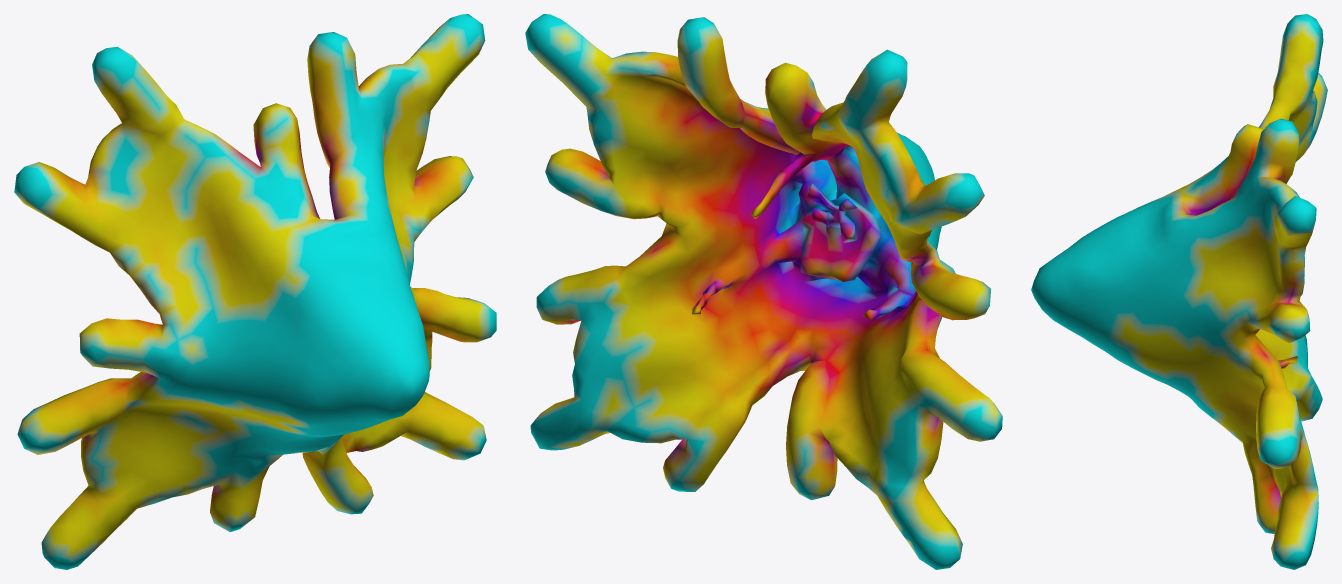
The model's file is jelly_63.gltf.
The picture shows the model from 3 angles, left to right: view 1: azimuth 30°, elevation 25°; view 2: azimuth 150°, elevation 25°; view 3: azimuth 270°, elevation 25°; orthographic projection. The views are drawn at different scales.
Parts seen in each view (by area): view 1: jellysquid3; view 2: jellysquid3; view 3: jellysquid3.
Boxes of the visible parts, x1=… form: jellysquid3: x1=14, y1=14, x2=496, y2=569; jellysquid3: x1=525, y1=14, x2=1002, y2=569; jellysquid3: x1=1031, y1=14, x2=1327, y2=569.
Size of the model in its own units: 14.12 by 14.57 by 9.19.
